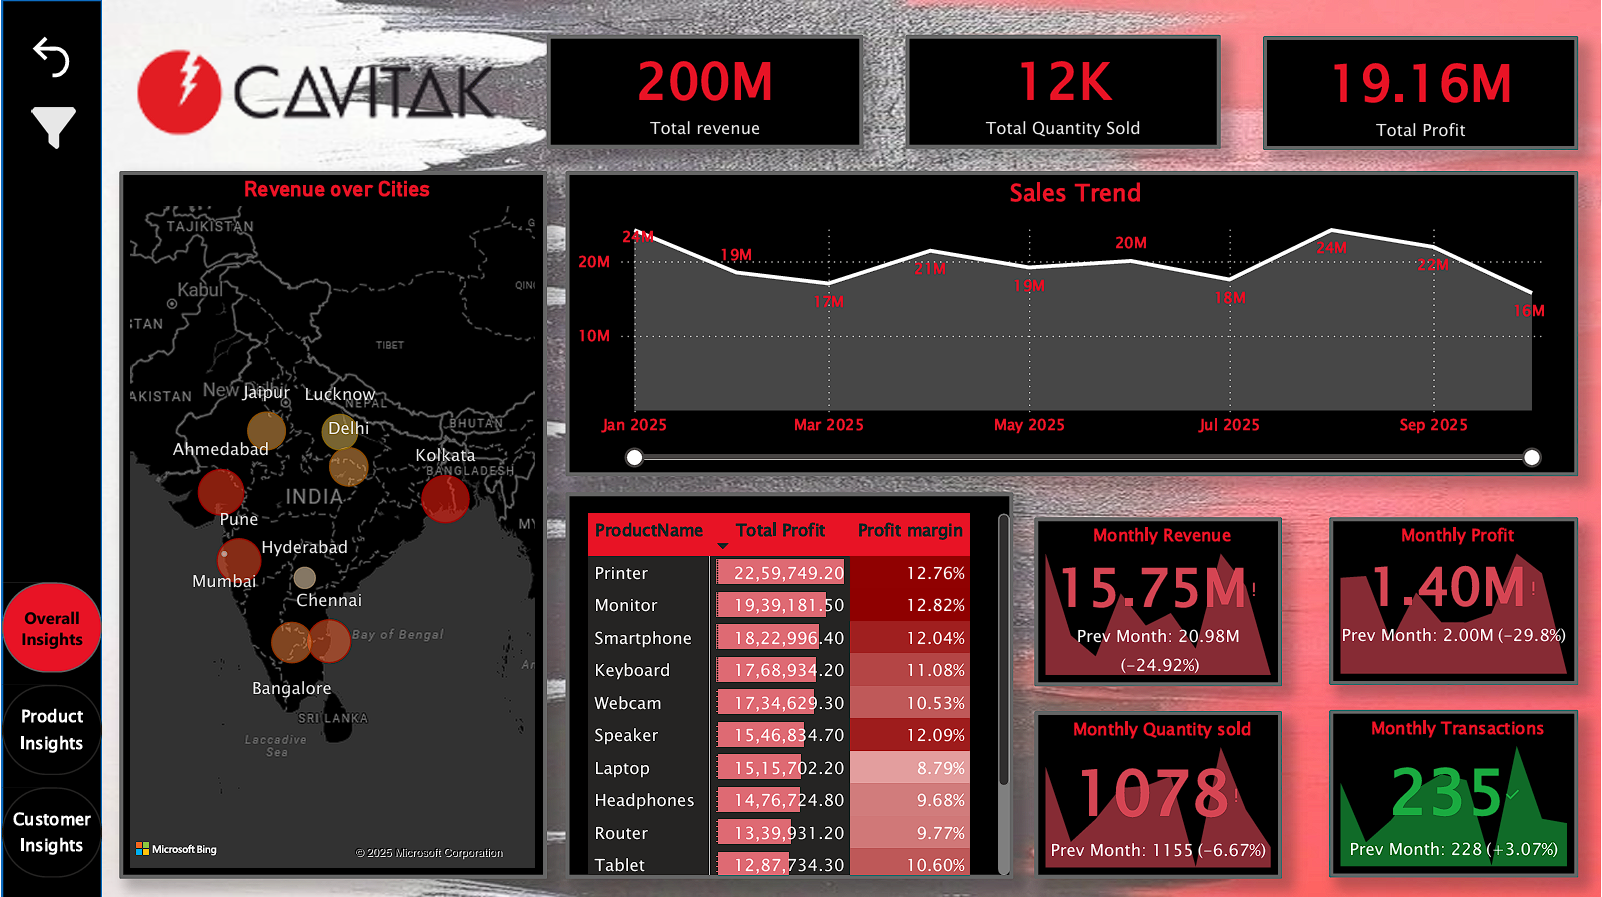

What the dashboard file says about the page in this screenshot:
{"tool":"powerbi","page":{"name":"Overall Insights","canvas":[1280,720],"ordinal":0},"visuals":[{"type":"image","box":[93.8,27.5,313.8,91.2],"z":0},{"type":"shape","box":[0,0,80,720],"z":1000},{"type":"pageNavigator","box":[0,466.2,80,237.5],"z":2000},{"type":"card","fields":{"Values":["Measure table.Total Profit"]},"box":[1008.8,28.8,252.5,91.2],"z":3000},{"type":"card","fields":{"Values":["Measure table.Total Quantity Sold"]},"box":[722.5,27.5,252.5,91.2],"z":4000},{"type":"card","fields":{"Values":["Measure table.Total revenue"]},"box":[436.2,27.5,252.5,91.2],"z":5000},{"type":"areaChart","title":"Sales Trend","fields":{"Category":["Calendar.Date.Variation.Date Hierarchy.Year","Calendar.Date.Variation.Date Hierarchy.Quarter","Calendar.Date.Variation.Date Hierarchy.Month","Calendar.Date.Variation.Date Hierarchy.Day"],"Y":["Measure table.Total revenue"]},"box":[451.4,137.1,810,244.3],"z":6000},{"type":"pivotTable","fields":{"Rows":["Products.ProductName"],"Values":["Measure table.Total Profit","Measure table.Profit margin"]},"box":[451.4,394.3,357.1,308.6],"z":7000},{"type":"map","title":"Revenue over Cities","fields":{"Category":["Customers.City"],"Size":["Measure table.Total revenue"]},"box":[94.3,137.1,341.4,565.7],"z":8000},{"type":"kpi","title":"Monthly Transactions","fields":{"TrendLine":["Calendar.Date.Variation.Date Hierarchy.Month"],"Indicator":["Measure table.Total transactions"],"Goal":["Measure table.Previous month Transactions"]},"box":[1061.7,567.6,199,134.5],"z":9000},{"type":"kpi","title":"Monthly Quantity sold","fields":{"TrendLine":["Calendar.Date.Variation.Date Hierarchy.Month"],"Indicator":["Measure table.Total Quantity Sold"],"Goal":["Measure table.Previous month Quantity Sold"]},"box":[825.7,568.6,198.6,134.3],"z":10000},{"type":"kpi","title":"Monthly Profit","fields":{"Goal":["Measure table.Previous month Profit"],"TrendLine":["Calendar.Date.Variation.Date Hierarchy.Month"],"Indicator":["Measure table.Total Profit"]},"box":[1061.7,413.8,199,134.5],"z":11000},{"type":"kpi","title":"Monthly Revenue","fields":{"Indicator":["Measure table.Total revenue"],"Goal":["Measure table.Previous month revenue"],"TrendLine":["Calendar.Date.Variation.Date Hierarchy.Month"]},"box":[825.7,414.3,198.6,134.3],"z":12000},{"type":"actionButton","box":[24.3,85.7,34.3,32.9],"z":13000},{"type":"actionButton","box":[18.1,23.6,45.3,43.5],"z":15000}]}

Visuals, with their boxes in screenshot pixels (x1, y1, x2, y2):
image: select_region(115, 34, 501, 146)
shape: select_region(0, 0, 98, 885)
pageNavigator: select_region(0, 573, 98, 865)
card - Measure table.Total Profit: select_region(1239, 35, 1550, 147)
card - Measure table.Total Quantity Sold: select_region(888, 34, 1198, 146)
card - Measure table.Total revenue: select_region(536, 34, 846, 146)
"Sales Trend" areaChart: select_region(555, 168, 1550, 469)
pivotTable - Products.ProductName x Measure table.Total Profit: select_region(555, 484, 993, 864)
"Revenue over Cities" map: select_region(116, 168, 535, 863)
"Monthly Transactions" kpi: select_region(1304, 697, 1549, 863)
"Monthly Quantity sold" kpi: select_region(1014, 699, 1258, 864)
"Monthly Profit" kpi: select_region(1304, 508, 1549, 674)
"Monthly Revenue" kpi: select_region(1014, 509, 1258, 674)
actionButton: select_region(30, 105, 72, 146)
actionButton: select_region(22, 29, 78, 82)
